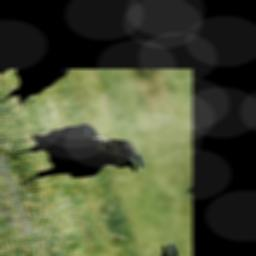Crow: (1, 94, 149, 221)
